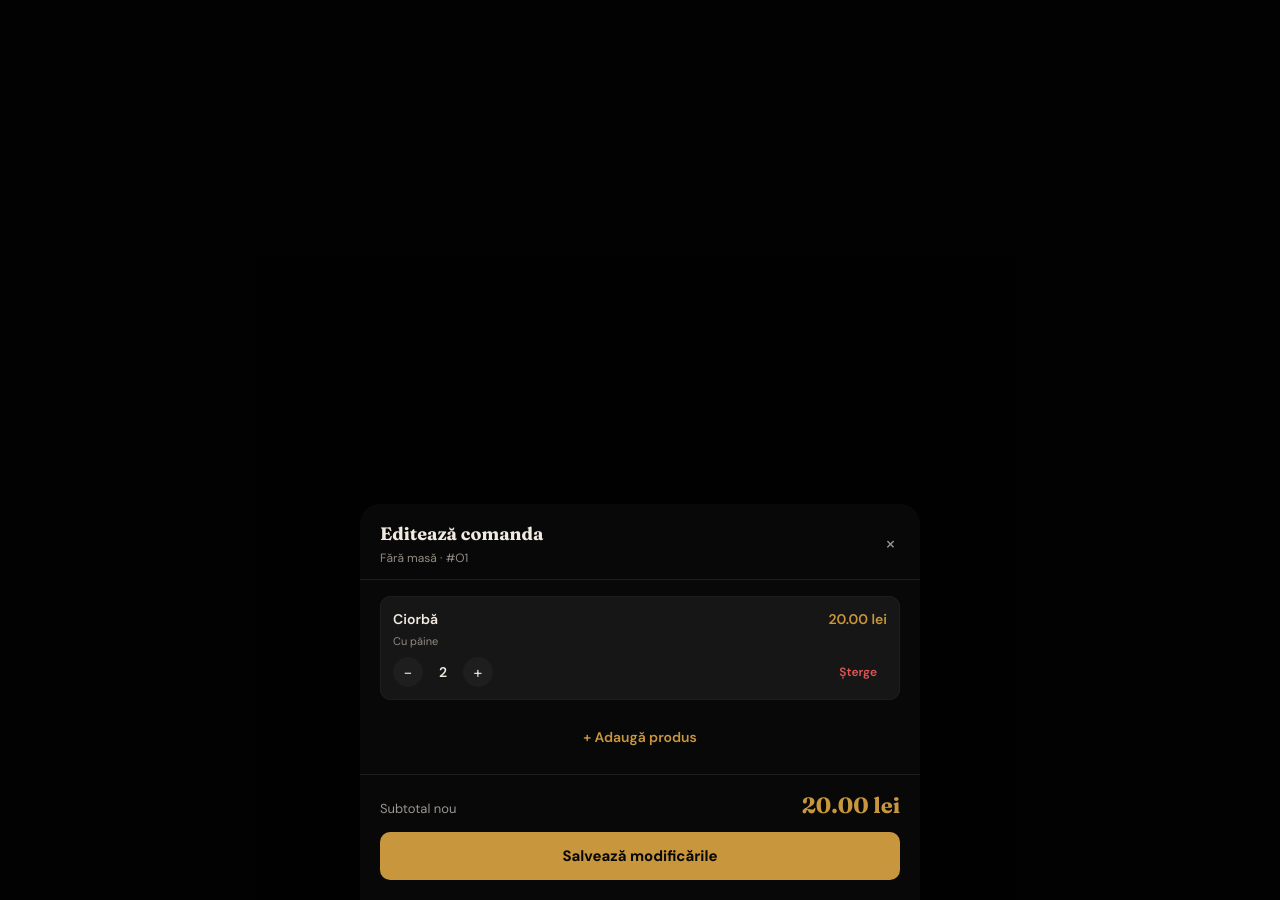
Scenario: EditOrderSheet — editarea comenzii (bani + optimistic lock) › coșul deja editat NU e suprascris de refetch (dirty guard)
Userul editează întâi (qty 2 → 3)...
Click the button "+" at (478, 672), box x1=463 y1=657 x2=493 y2=687
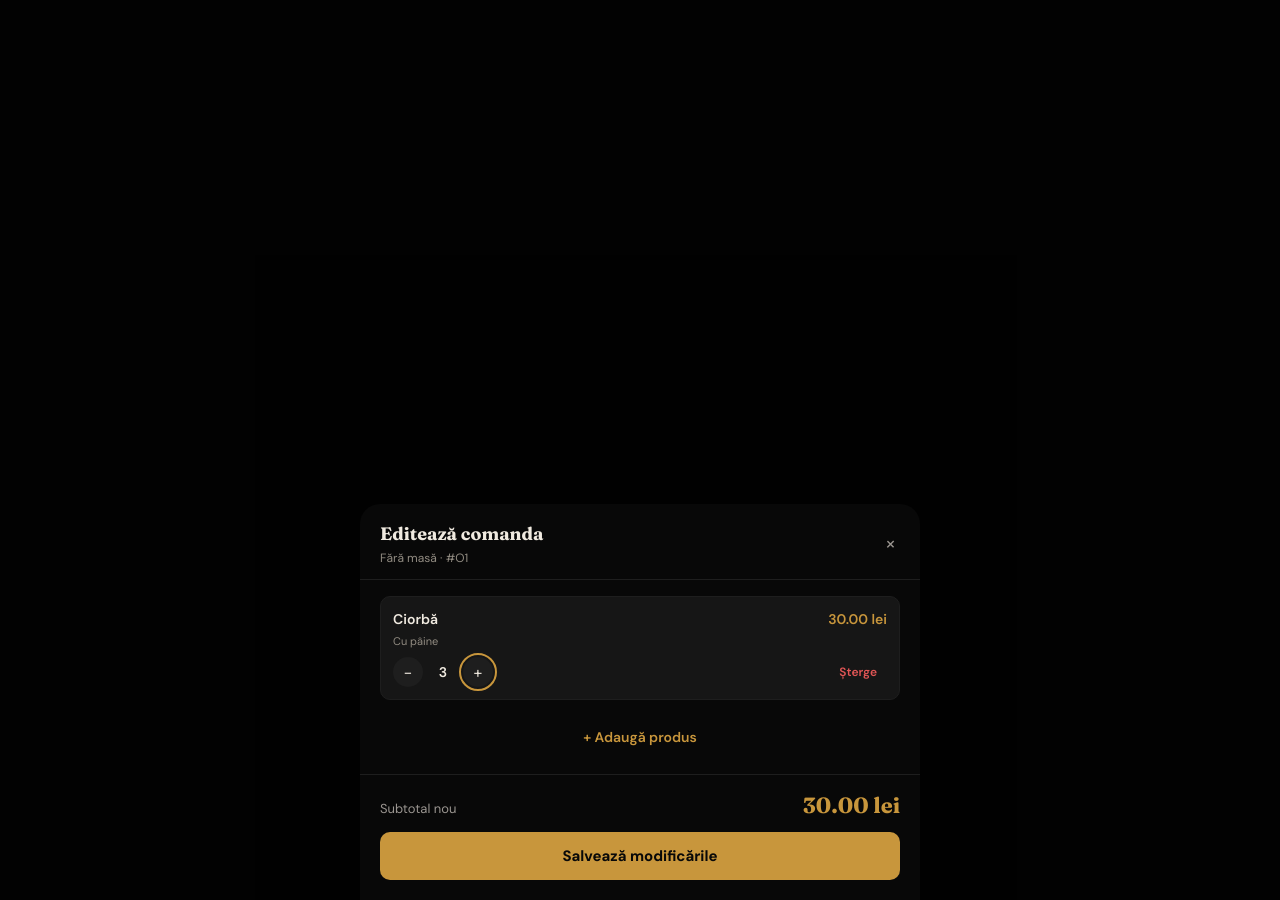
Check: the text "3" is shown, box x1=439 y1=662 x2=447 y2=680
